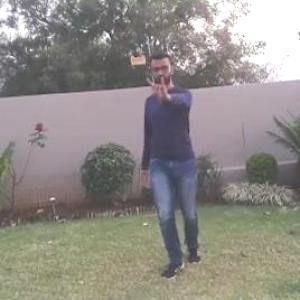takeoff-hand: (141, 69, 177, 111)
